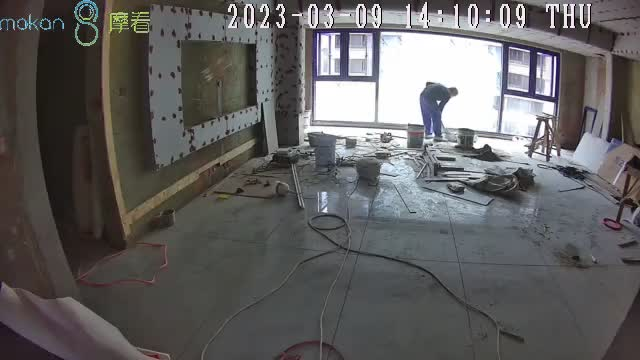people: (419, 81, 459, 140)
window: (311, 28, 558, 138)
